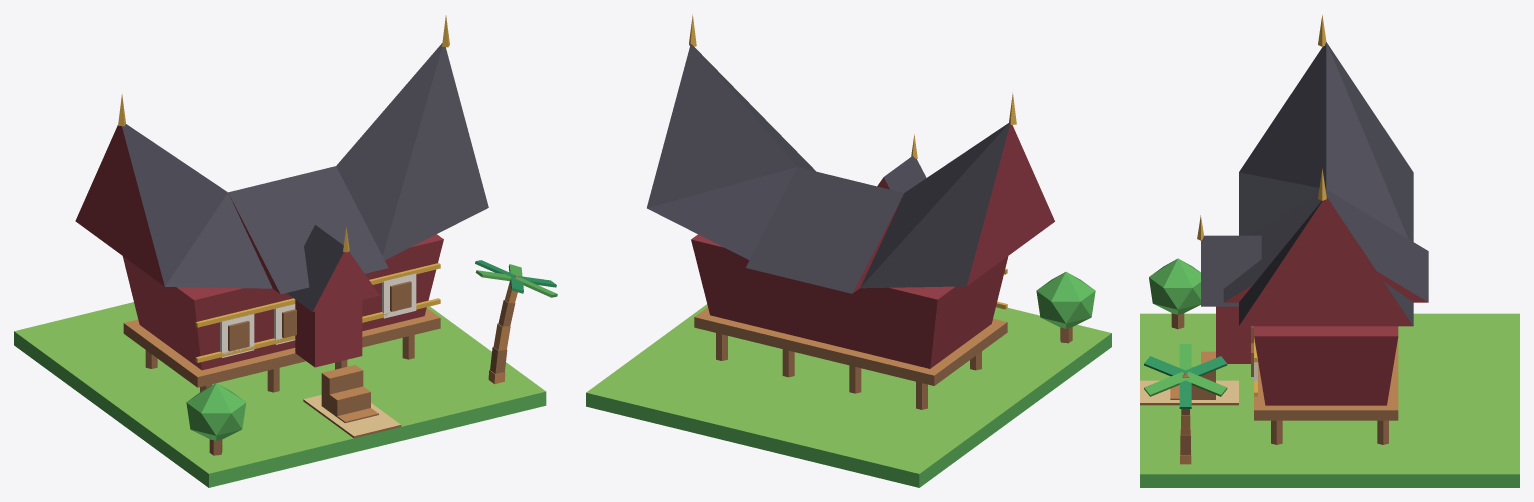
The model's file is house_gadang.glb.
3 renders of one model, left to right at view 1: azimuth 30°, elevation 25°; view 2: azimuth 150°, elevation 25°; view 3: azimuth 270°, elevation 25°, orthographic. The views are drawn at different scales.
Visible parts, largest first — view 1: house_gadang; view 2: house_gadang; view 3: house_gadang.
Part boxes in pixels (x1=…): house_gadang: x1=14, y1=15, x2=557, y2=487; house_gadang: x1=586, y1=14, x2=1111, y2=487; house_gadang: x1=1140, y1=15, x2=1519, y2=487.
Bounding box in the file's own units: 1.09 × 0.9209 × 1.
